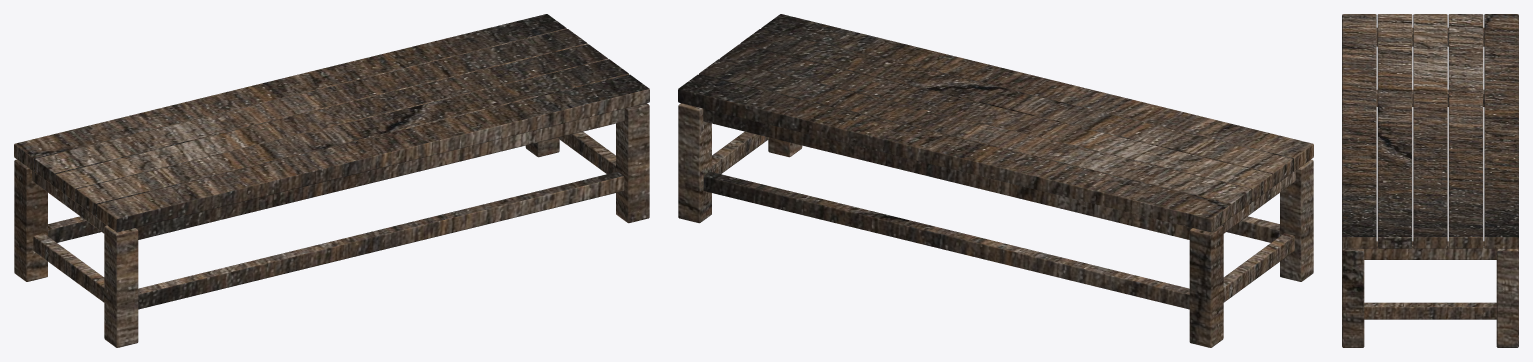
File: tavern-table-messhall-v01.glb
3 renders of one model, left to right at view 1: azimuth 30°, elevation 25°; view 2: azimuth 150°, elevation 25°; view 3: azimuth 270°, elevation 25°, orthographic. The views are drawn at different scales.
Parts seen in each view (by area): view 1: table-messhall-v01; view 2: table-messhall-v01; view 3: table-messhall-v01.
Part boxes in pixels (x1=…): table-messhall-v01: x1=14, y1=14, x2=649, y2=347; table-messhall-v01: x1=678, y1=14, x2=1313, y2=347; table-messhall-v01: x1=1342, y1=14, x2=1518, y2=347.
Bounding box in the file's own units: 3.35 × 0.781 × 1.12.
Materials: 3 (3 with a texture image).
